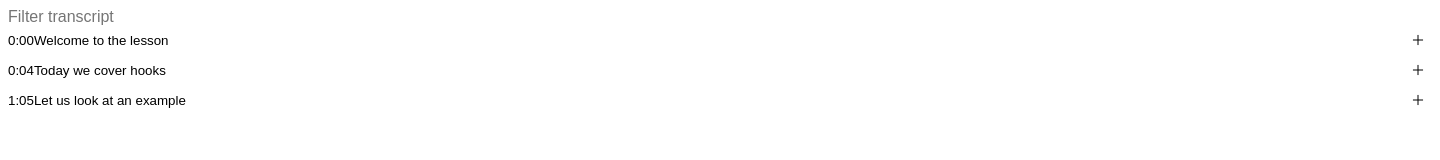
PlayerTranscriptTab › shows the no-match state when the filter matches nothing
The image size is (1440, 160).
Type "nonexistent" into the search field with placeholder "Filter transcript".
click(720, 17); type("nonexistent")  # box x1=8 y1=8 x2=1432 y2=26
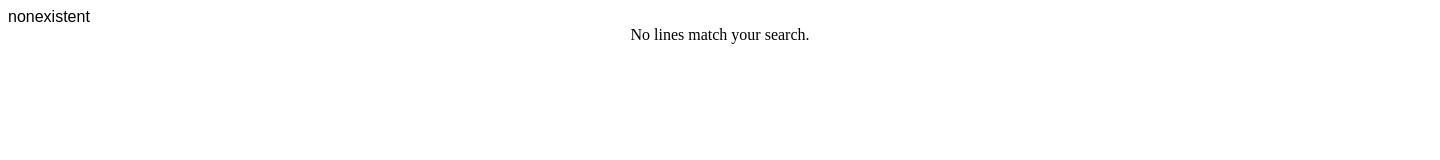
Expected: the text "No lines match your search." is shown, x1=630 y1=26 x2=810 y2=43
